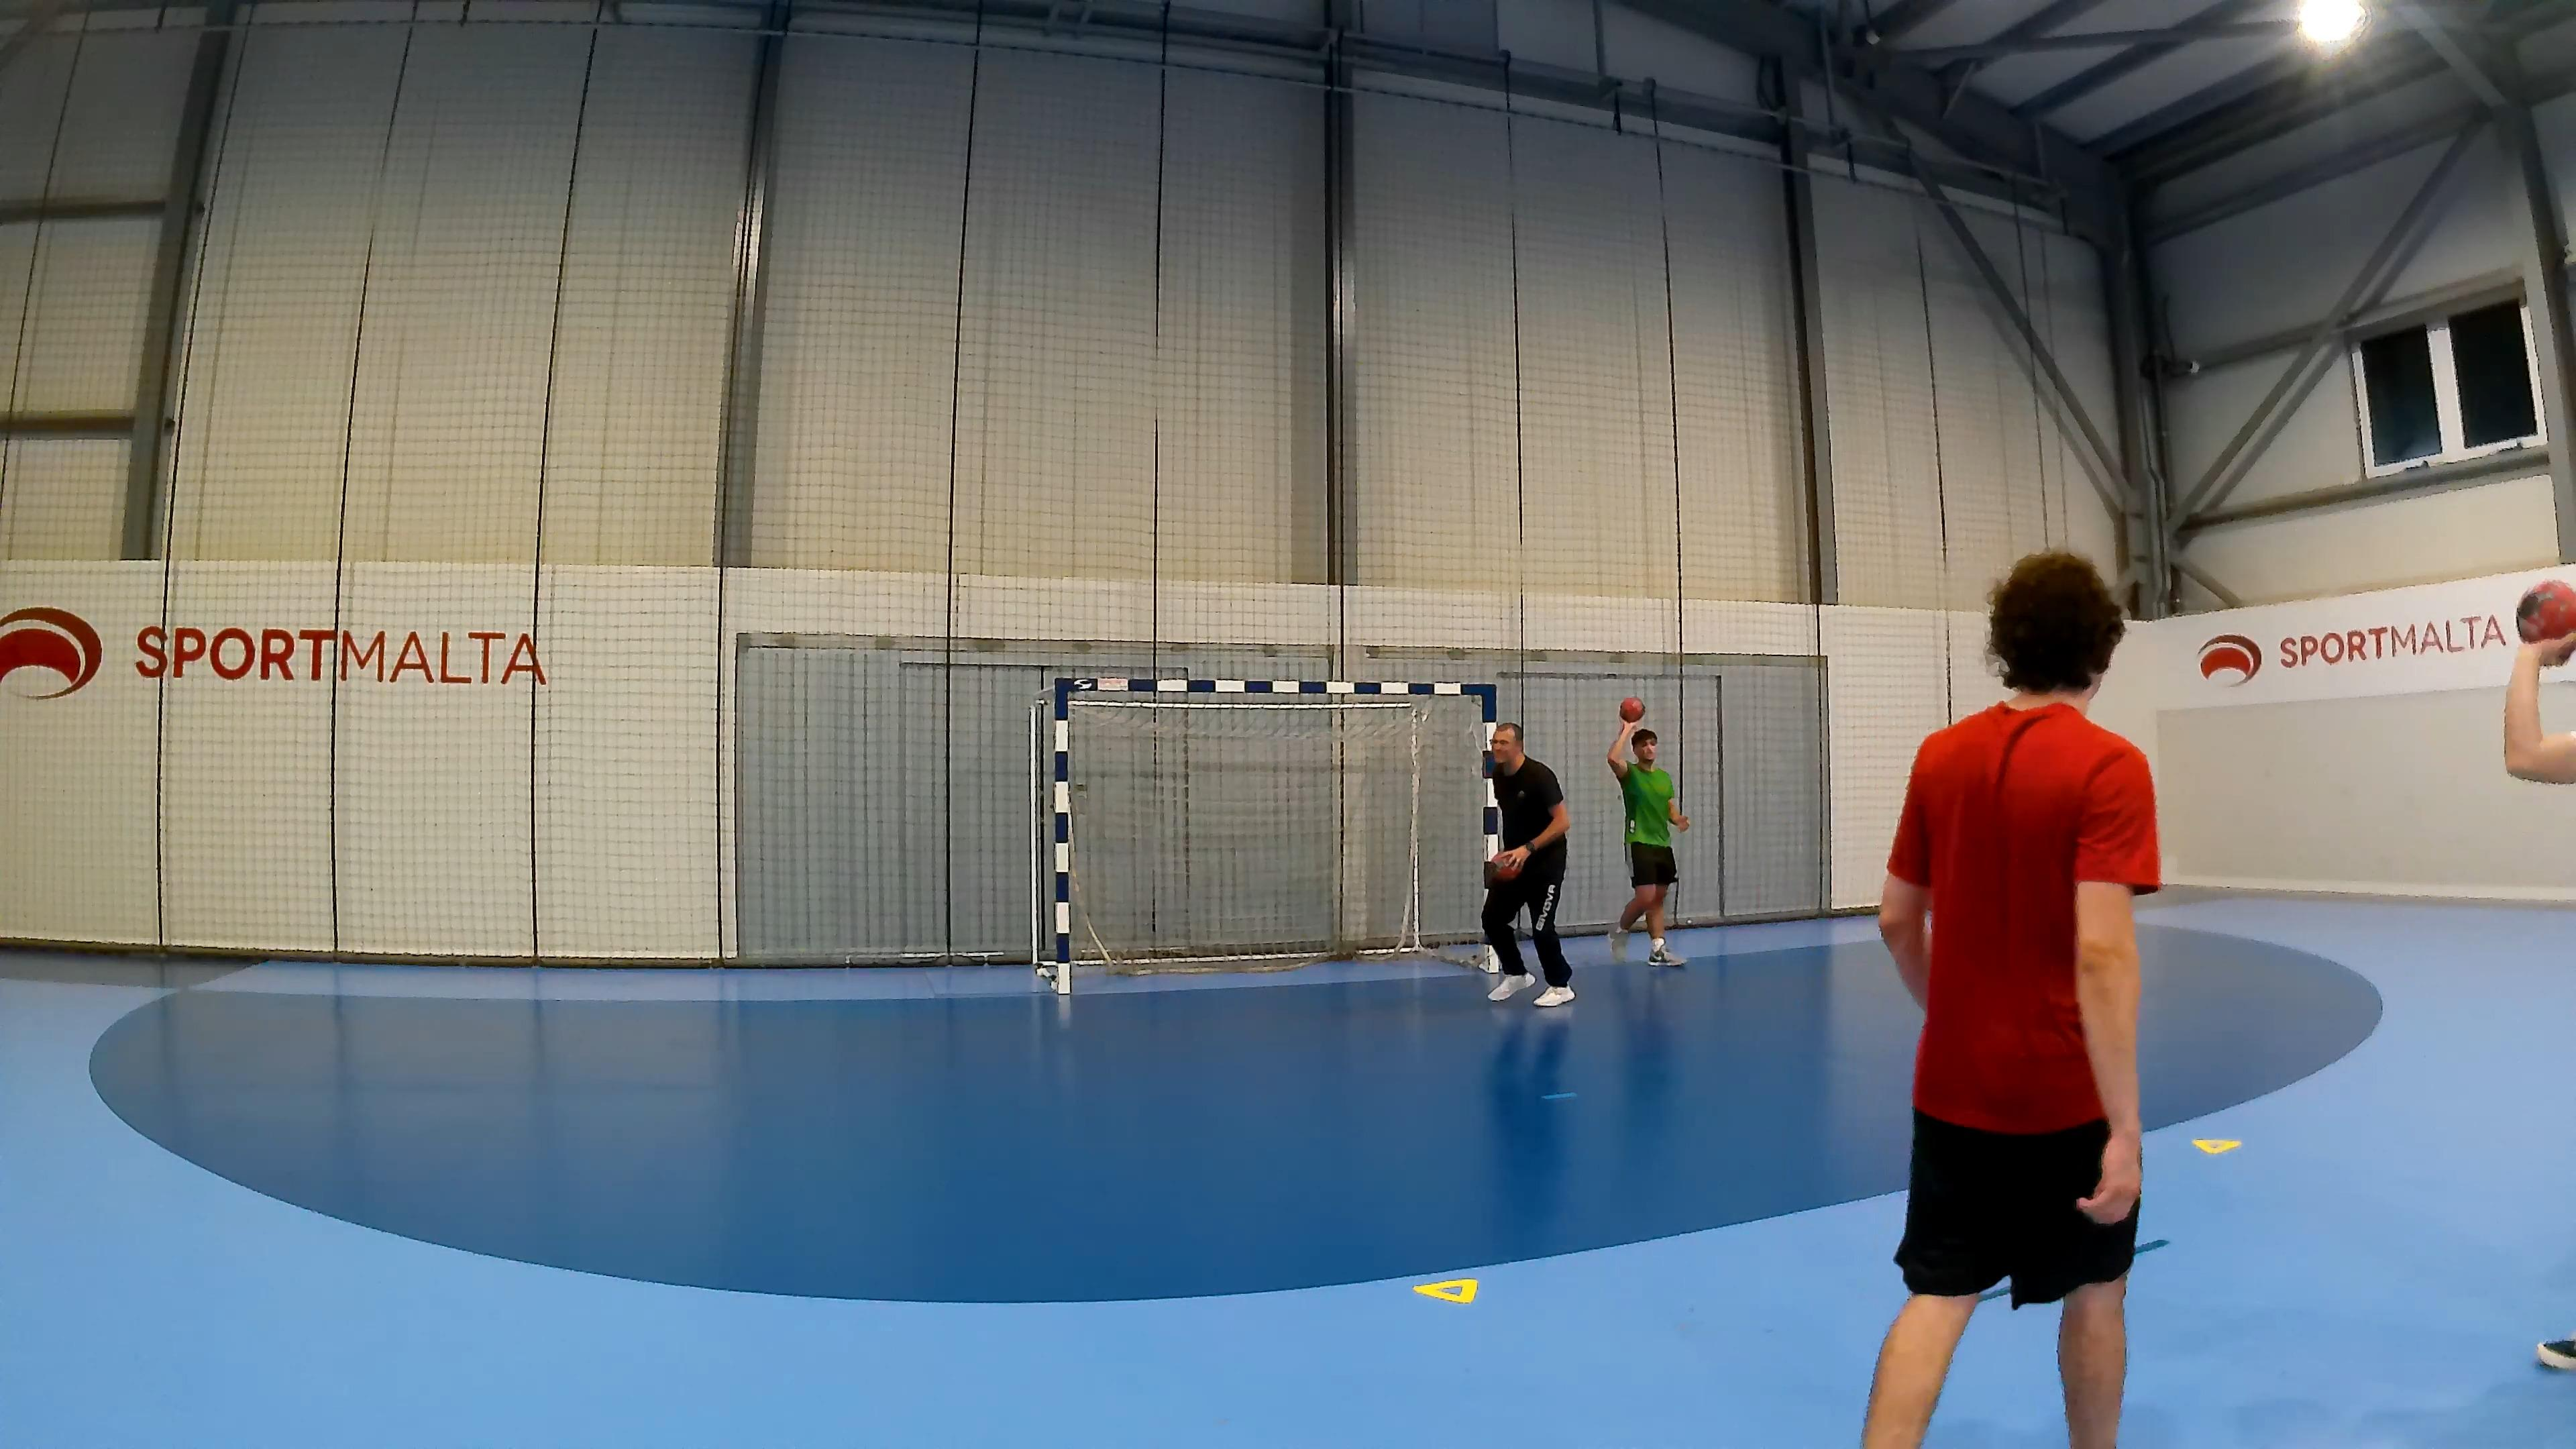handball: (2514, 577, 2576, 644), (1619, 695, 1644, 722)
